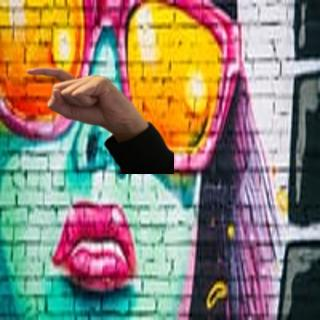WHY: (22, 63, 145, 135)
